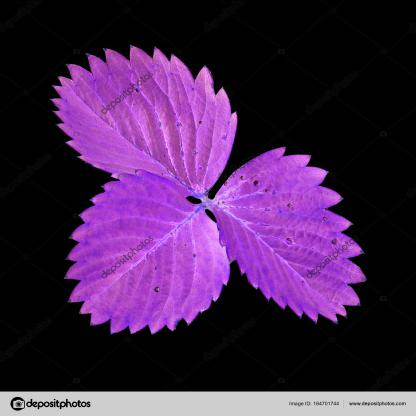strawberry leaf: (213, 143, 369, 329), (52, 44, 237, 195), (67, 170, 236, 330)
